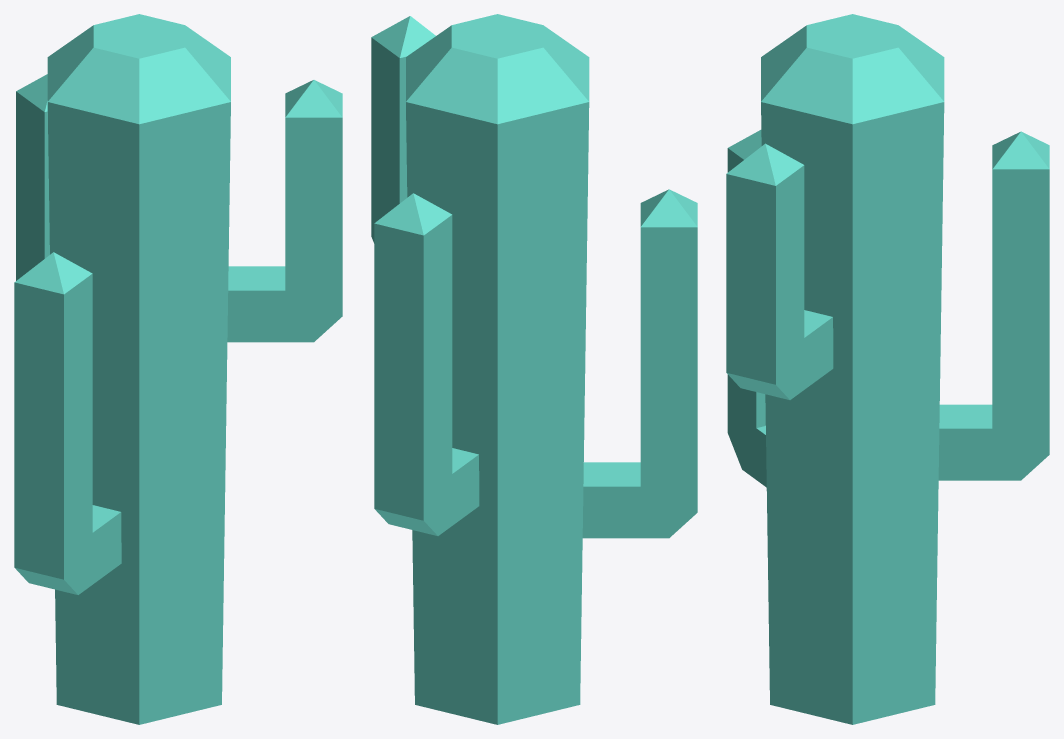
The model's file is cactus_tall.gltf.
The picture shows the model from 3 angles, left to right: view 1: azimuth 30°, elevation 25°; view 2: azimuth 150°, elevation 25°; view 3: azimuth 270°, elevation 25°; orthographic projection.
Visible parts, largest first — view 1: cactus_tall; view 2: cactus_tall; view 3: cactus_tall.
Boxes of the visible parts, box(x1,y1,x2,y2) form: cactus_tall: box(14, 14, 342, 724); cactus_tall: box(371, 14, 697, 724); cactus_tall: box(726, 14, 1049, 724).
Size of the model in its own units: 0.3963 by 0.75 by 0.3391.
